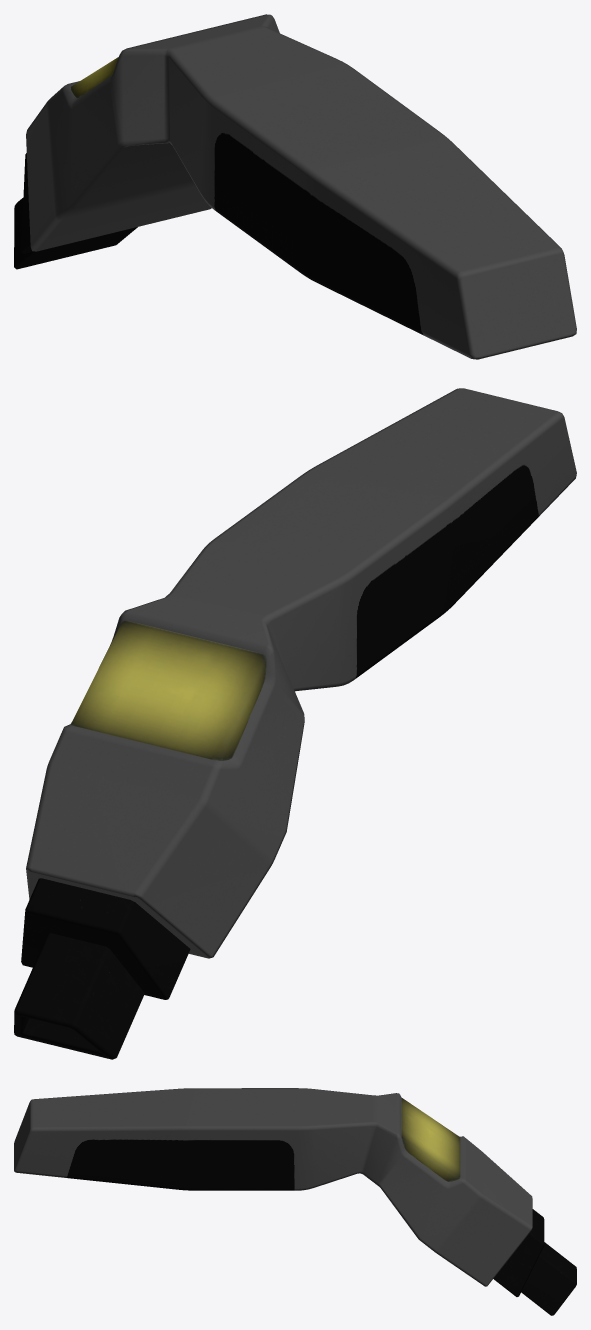
File: vr-controller.glb
3 renders of one model, top to bottom at view 1: azimuth 30°, elevation 25°; view 2: azimuth 150°, elevation 25°; view 3: azimuth 270°, elevation 25°, orthographic. The views are drawn at different scales.
Visible parts, largest first — view 1: Box001; view 2: Box001; view 3: Box001.
Part boxes in pixels (x1,y1,x2,y2): Box001: [14, 14, 576, 359]; Box001: [14, 388, 576, 1059]; Box001: [14, 1088, 576, 1315].
Size of the model in its own units: 0.0462 by 0.0683 by 0.1789.
1 material, 1 textured.
